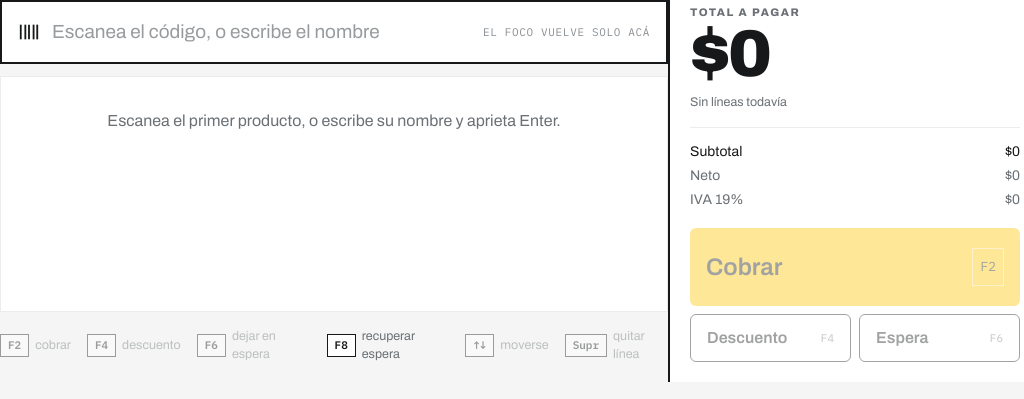
escanear › el mismo producto dos veces suma a la misma línea, no crea otra
Type "FH-00010" into the dropdown at coordinates (262, 32), box [52,18,471,46]
Then press Enter
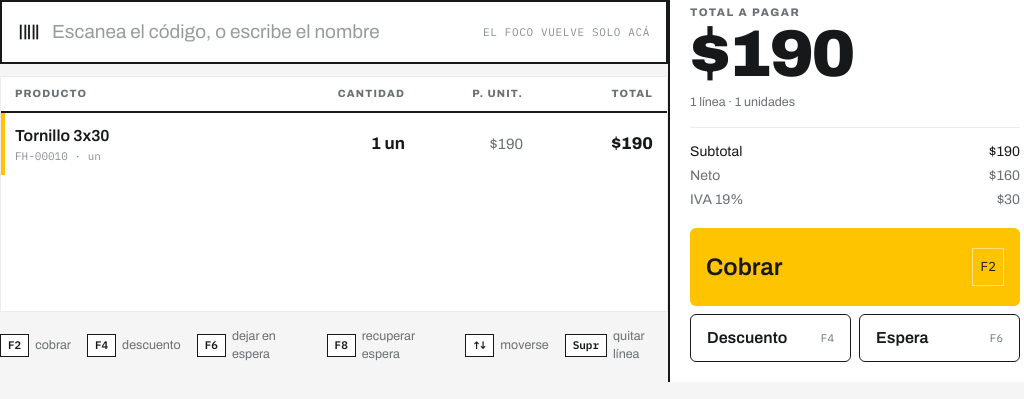
Type "FH-00010" into the dropdown at coordinates (262, 32), box [52,18,471,46]
Then press Enter
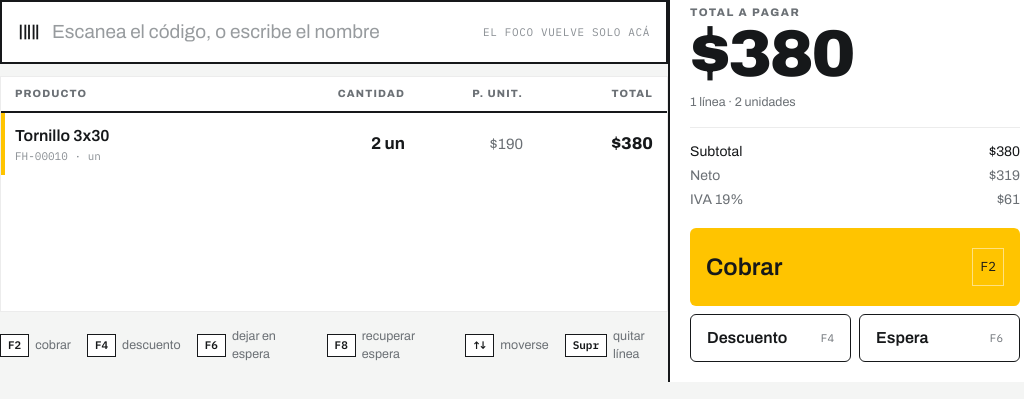
Check: the row "Tornillo 3x30 FH-00010 · un 2 un $190 $380" is shown, box [1,112,667,175]
